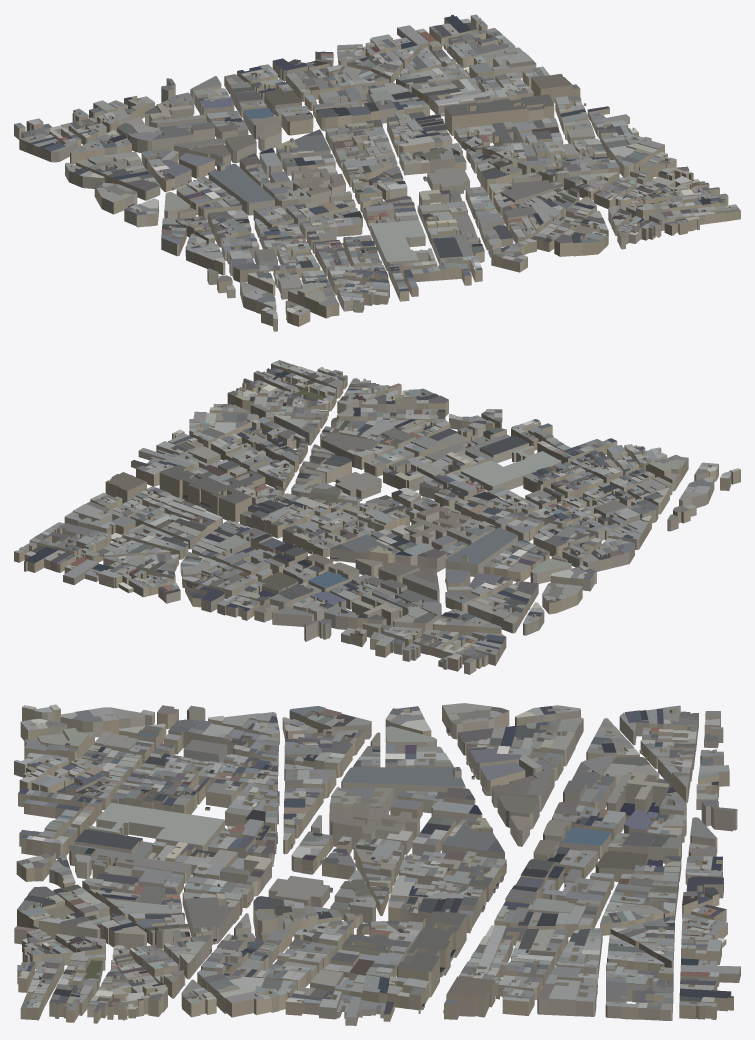
3 renders of one model, top to bottom at view 1: azimuth 30°, elevation 25°; view 2: azimuth 150°, elevation 25°; view 3: azimuth 270°, elevation 25°, orthographic. The views are drawn at different scales.
Visible parts, largest first — view 1: tuile; view 2: tuile; view 3: tuile.
Part boxes in pixels (bbox=[...]): tuile: bbox=[14, 14, 740, 331]; tuile: bbox=[14, 360, 740, 674]; tuile: bbox=[14, 703, 740, 1025].
Bounding box in the file's own units: 1048 × 49.76 × 1043.
